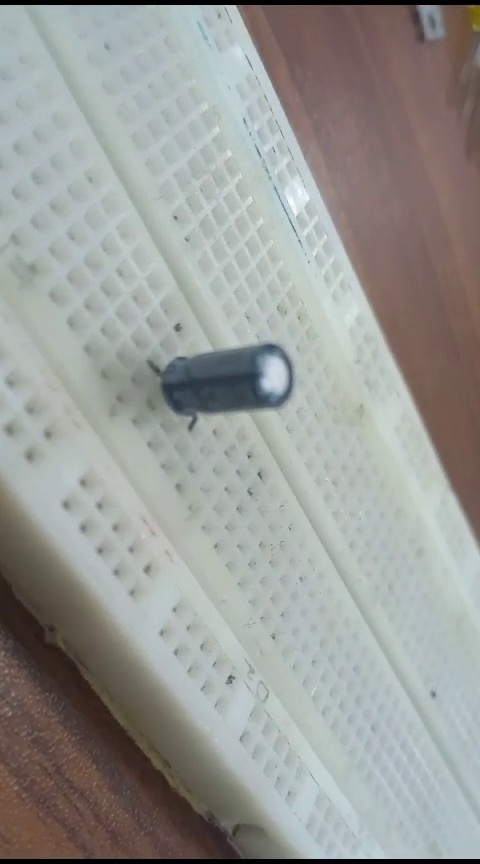capacitor: (135, 331, 300, 435)
